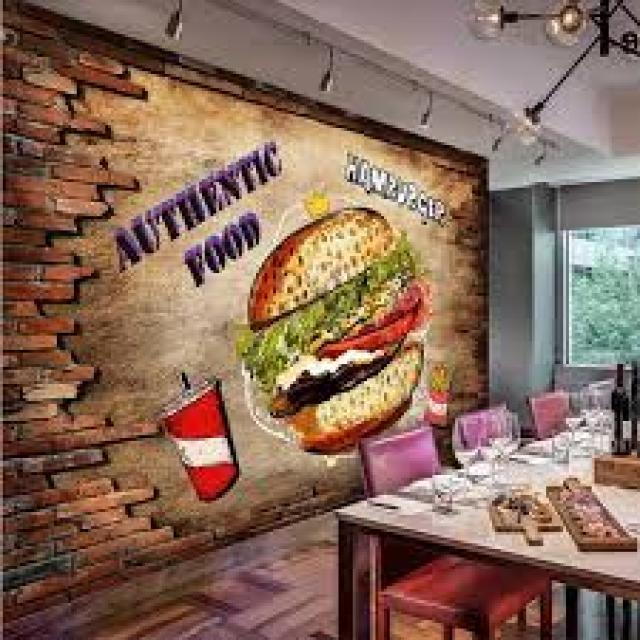Burger: (229, 222, 441, 429)
